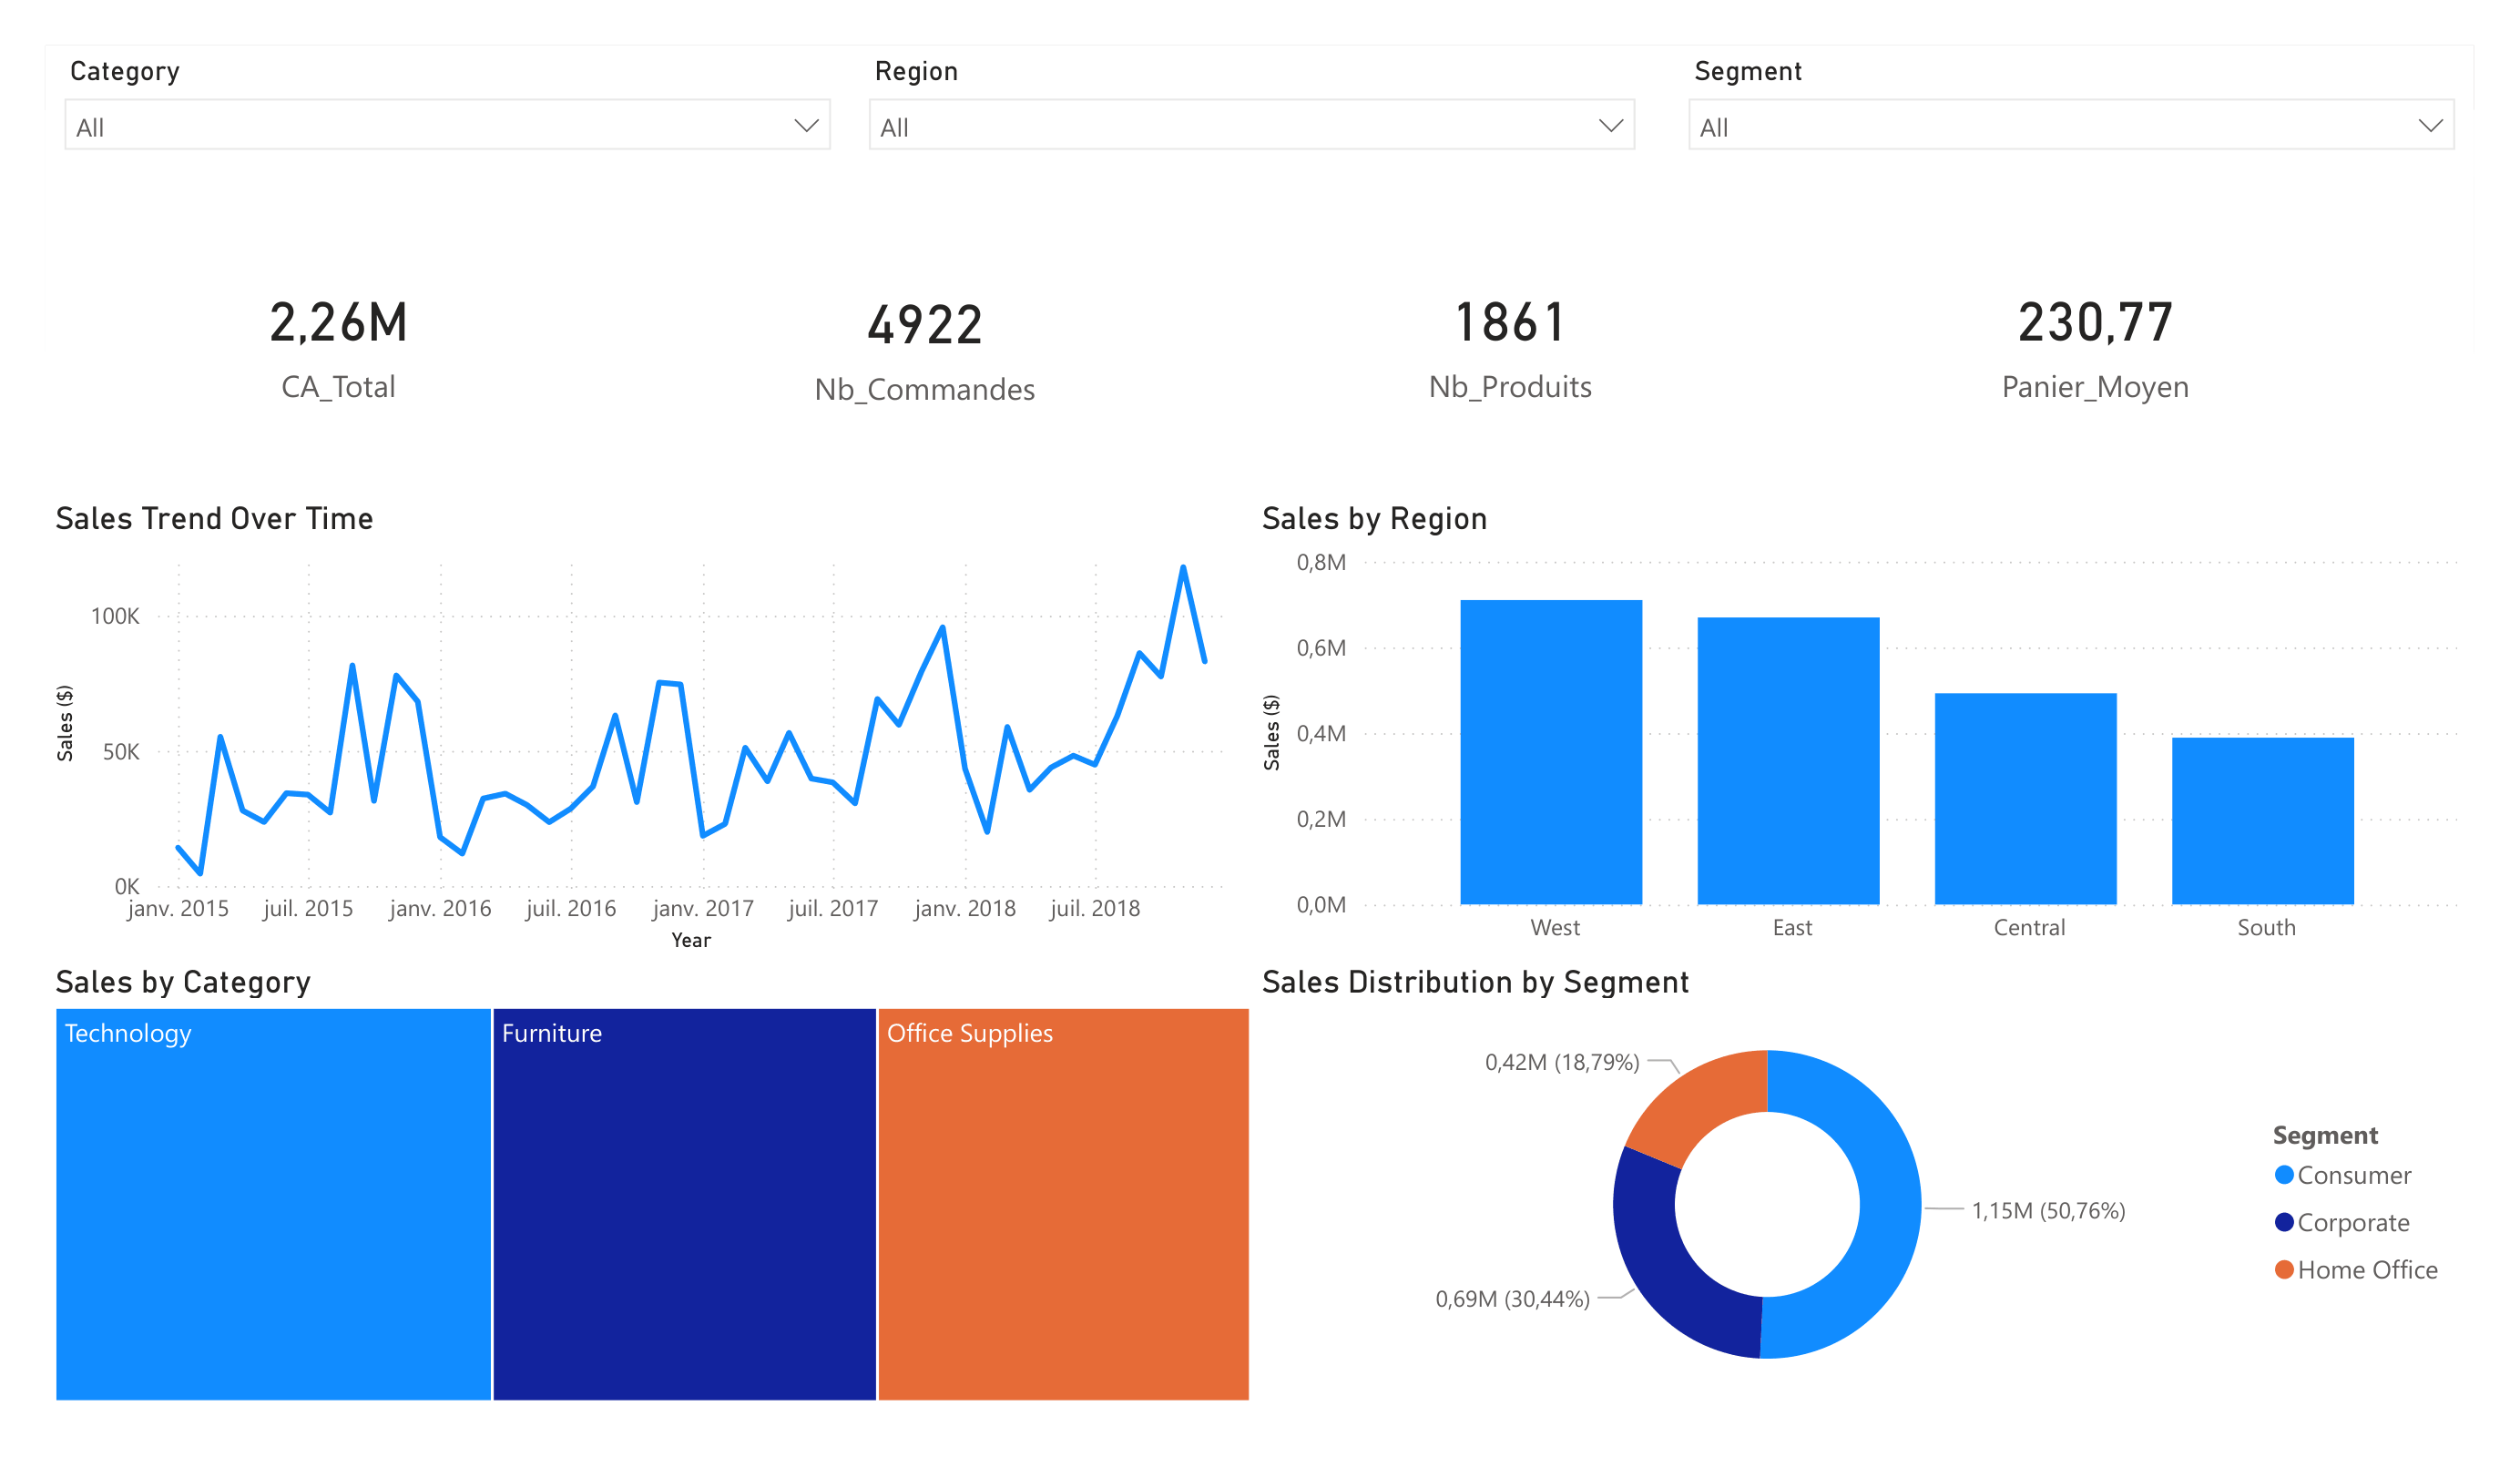

The page's visual inventory and layout, read from the dashboard file:
{"tool":"powerbi","page":{"name":"Page 1","canvas":[1280,720],"ordinal":0},"visuals":[{"type":"card","fields":{"Values":["ventes_clean.CA_Total"]},"box":[0,32.5,308.8,243.8],"z":0},{"type":"card","fields":{"Values":["ventes_clean.Nb_Commandes"]},"box":[308.8,33.8,308.8,243.8],"z":1000},{"type":"card","fields":{"Values":["ventes_clean.Panier_Moyen"]},"box":[926.2,32.5,308.8,243.8],"z":2000},{"type":"card","fields":{"Values":["ventes_clean.Nb_Produits"]},"box":[617.5,32.5,308.8,243.8],"z":3000},{"type":"lineChart","title":"Sales Trend Over Time","fields":{"Category":["ventes_clean.month_year.Variation.Hiérarchie de dates.Année","ventes_clean.month_year.Variation.Hiérarchie de dates.Trimestre","ventes_clean.month_year.Variation.Hiérarchie de dates.Mois","ventes_clean.month_year.Variation.Hiérarchie de dates.Jour"],"Y":["Sum(ventes_clean.Sales)"]},"box":[0,238.8,640,243.8],"z":4000},{"type":"clusteredColumnChart","title":"Sales by Region","fields":{"Category":["ventes_clean.Region"],"Y":["Sum(ventes_clean.Sales)"]},"box":[636.2,238.8,640,243.8],"z":5000},{"type":"treemap","title":"Sales by Category","fields":{"Group":["ventes_clean.Category"],"Values":["Sum(ventes_clean.Sales)"]},"box":[0,482.5,640,237.5],"z":6000},{"type":"donutChart","title":"Sales Distribution by Segment","fields":{"Category":["ventes_clean.Segment"],"Y":["Sum(ventes_clean.Sales)"]},"box":[636.2,482.5,640,237.5],"z":7000},{"type":"slicer","fields":{"Values":["ventes_clean.Category"]},"box":[0,0,423.8,68.8],"z":8000},{"type":"slicer","fields":{"Values":["ventes_clean.Region"]},"box":[423.8,0,423.8,68.8],"z":9000},{"type":"slicer","fields":{"Values":["ventes_clean.Segment"]},"box":[856.2,0,423.8,68.8],"z":10000}]}

Visuals, with their boxes on the page's 1280x720 design canvas (x1, y1, x2, y2). These are canvas units, not pixel positions in the 2520x1457 screenshot, which may show the page scaled, cropped or inside an application window:
card - ventes_clean.CA_Total: (0,32,309,276)
card - ventes_clean.Nb_Commandes: (309,34,618,278)
card - ventes_clean.Panier_Moyen: (926,32,1235,276)
card - ventes_clean.Nb_Produits: (618,32,926,276)
"Sales Trend Over Time" lineChart: (0,239,640,483)
"Sales by Region" clusteredColumnChart: (636,239,1276,483)
"Sales by Category" treemap: (0,482,640,720)
"Sales Distribution by Segment" donutChart: (636,482,1276,720)
slicer - ventes_clean.Category: (0,0,424,69)
slicer - ventes_clean.Region: (424,0,848,69)
slicer - ventes_clean.Segment: (856,0,1280,69)
